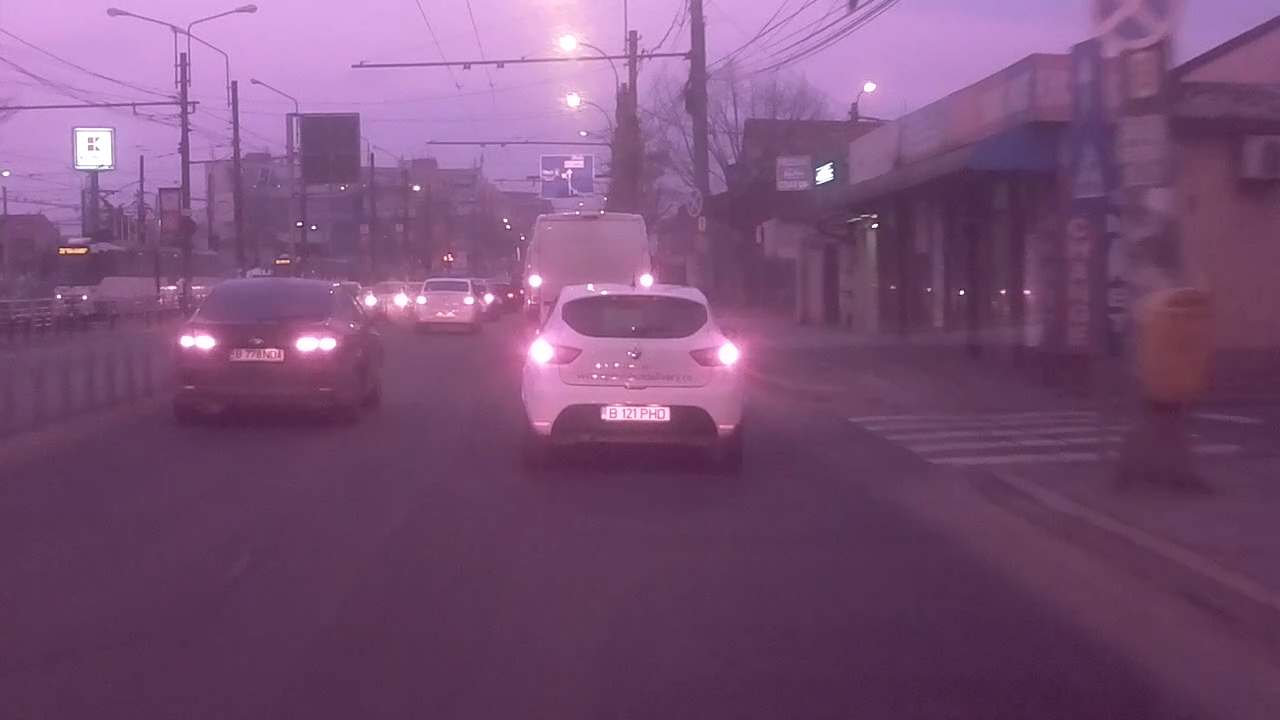license-plate: (598, 403, 673, 423), (226, 346, 286, 361)
